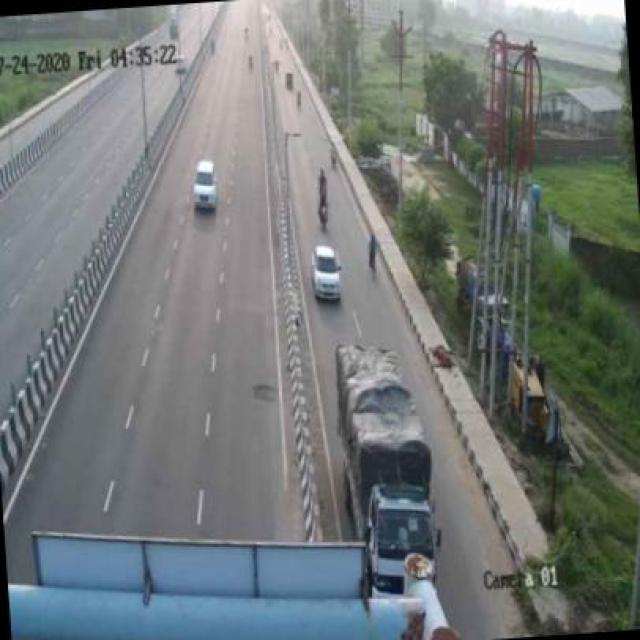car: (301, 228, 361, 308), (189, 153, 227, 216)
